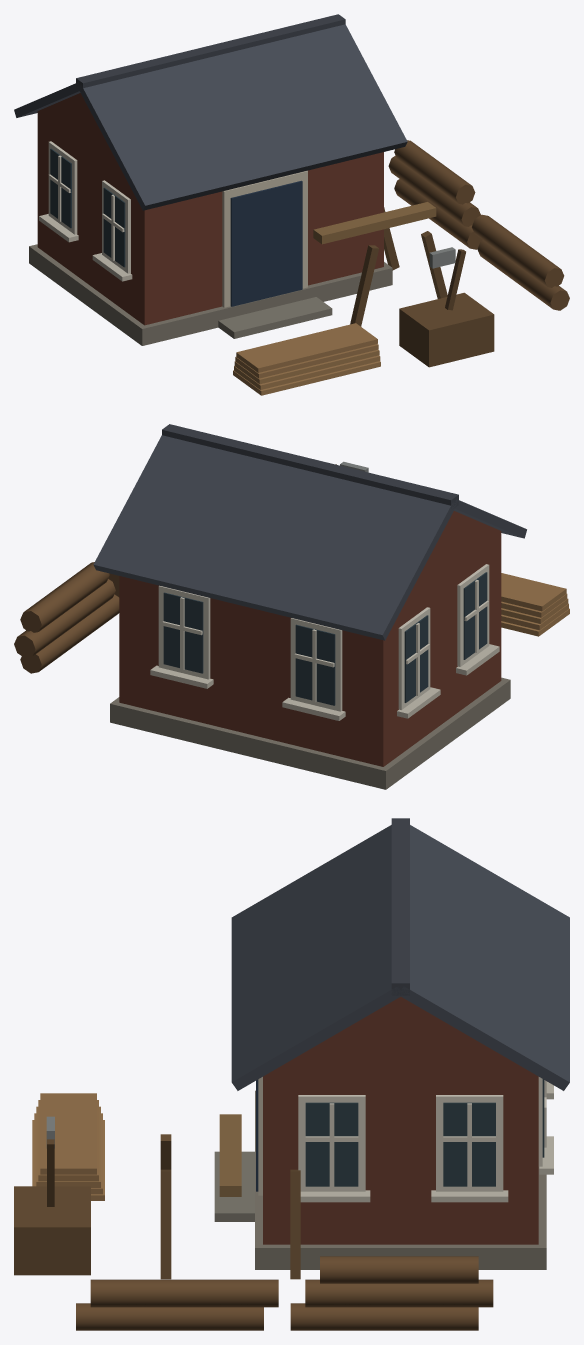
Rendered from procedural_lumber@5.glb.
3 renders of one model, top to bottom at view 1: azimuth 30°, elevation 25°; view 2: azimuth 150°, elevation 25°; view 3: azimuth 270°, elevation 25°, orthographic. The views are drawn at different scales.
Visible parts, largest first — view 1: part_0; view 2: part_0; view 3: part_0.
Part boxes in pixels (x1,y1,x2,y2): part_0: (14, 14, 569, 395); part_0: (14, 424, 569, 789); part_0: (14, 818, 569, 1330).
Bounding box in the file's own units: 6.69 × 3.96 × 6.86.
